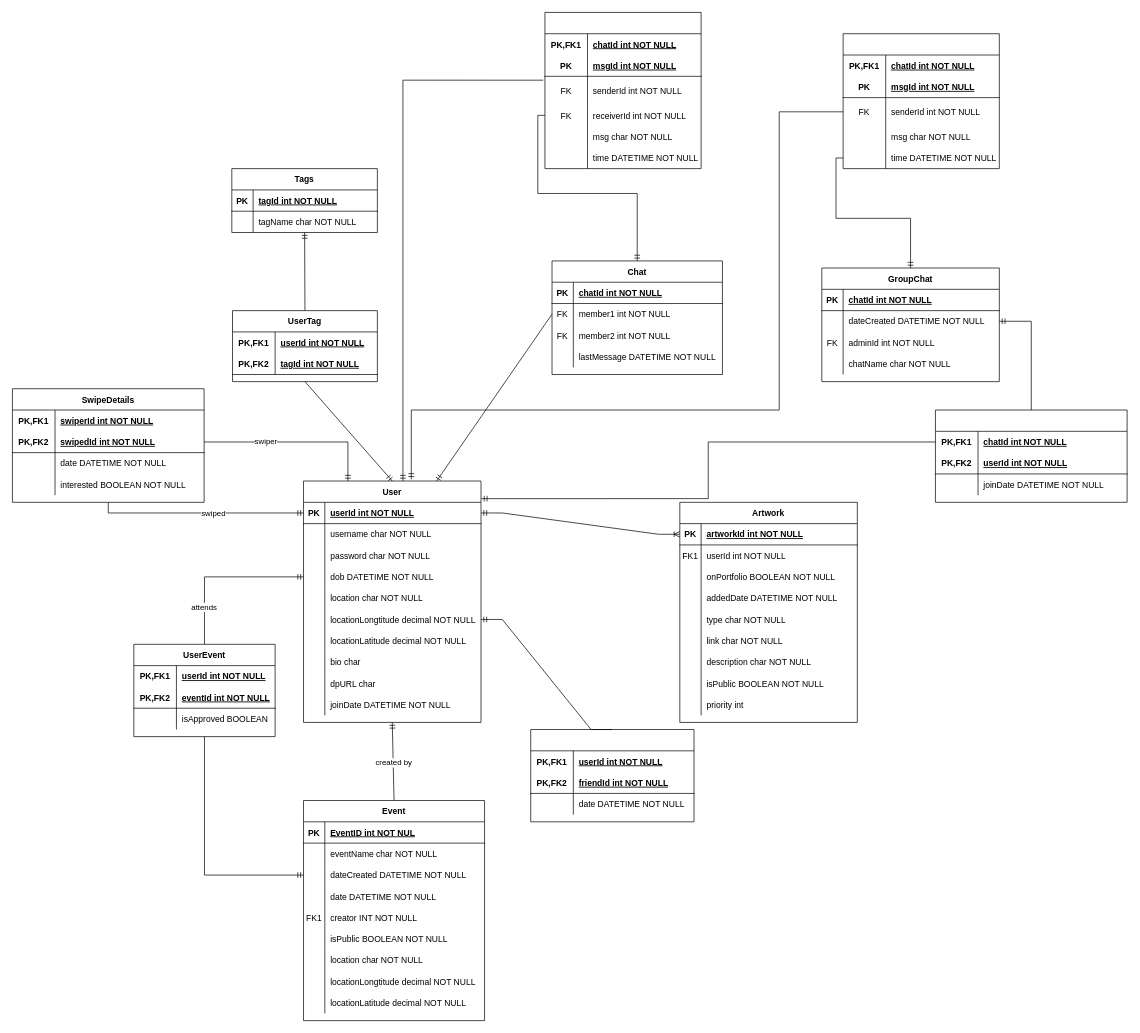
This 1140x1033 diagram has some shape labels left out. The shapes that lost their labels are listed below. From the top down, each one's box as (x1, y1, x2, y2) in pixels, then its label:
(544, 12, 701, 169): ChatMessage
(842, 33, 999, 169): GroupChatMessage
(935, 409, 1127, 502): GroupChatMembers
(530, 729, 694, 822): FriendsList
